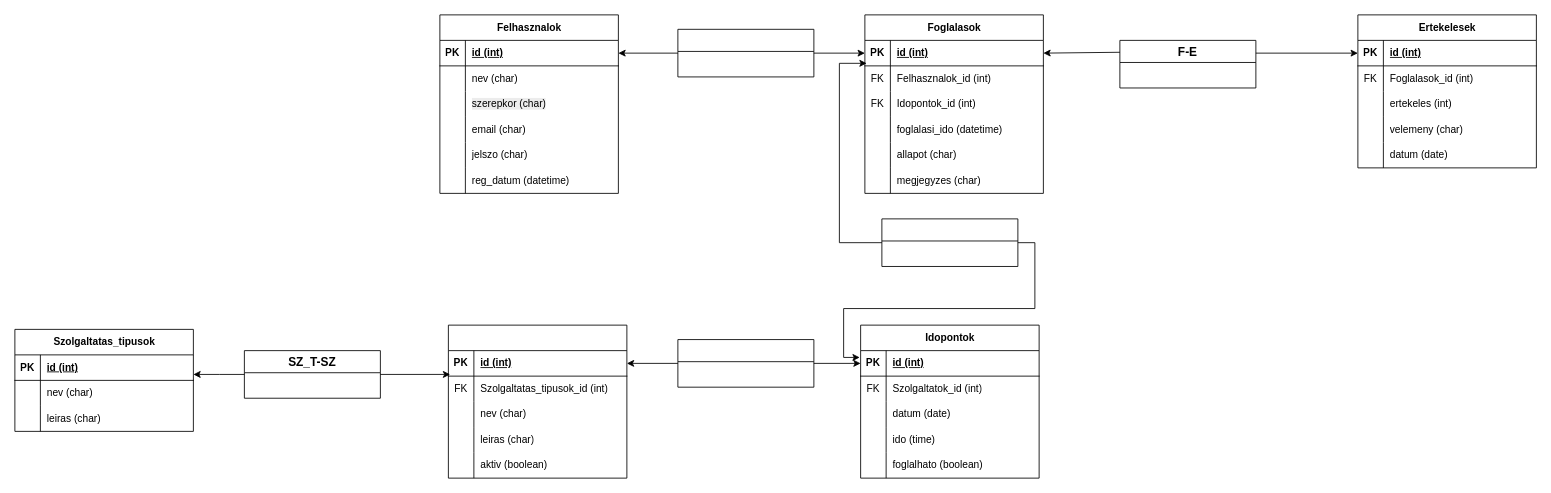
Some shapes in this 1551 by 493 pixel diagram are drawn without their labels. Here are the shapes that lost their labels. From the top down, the box of each, then its label:
(677, 28, 814, 77): F-F
(881, 218, 1018, 266): I-F
(677, 339, 814, 387): SZ-I
(448, 324, 627, 478): Szolgaltatok
